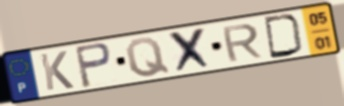D: (261, 13, 306, 60)
K: (37, 49, 76, 93)
P: (72, 41, 114, 90)
Q: (123, 36, 172, 79)
R: (219, 22, 265, 64)
X: (166, 25, 215, 76)
